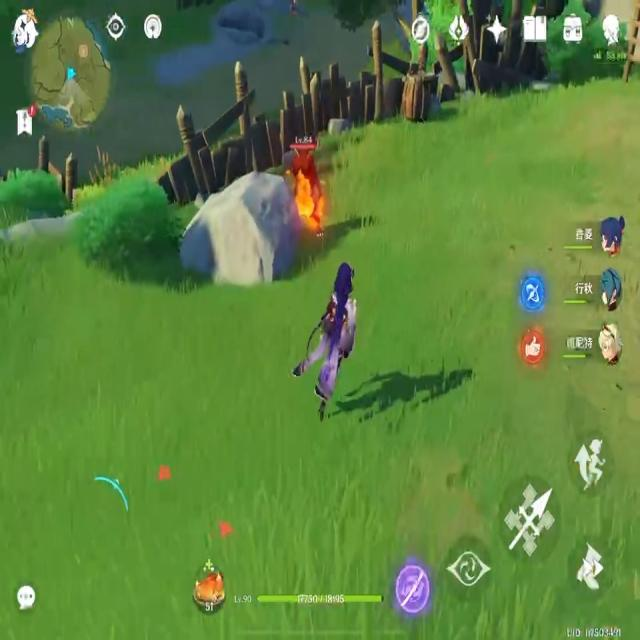genshin-hilichurls: (288, 130, 334, 237)
